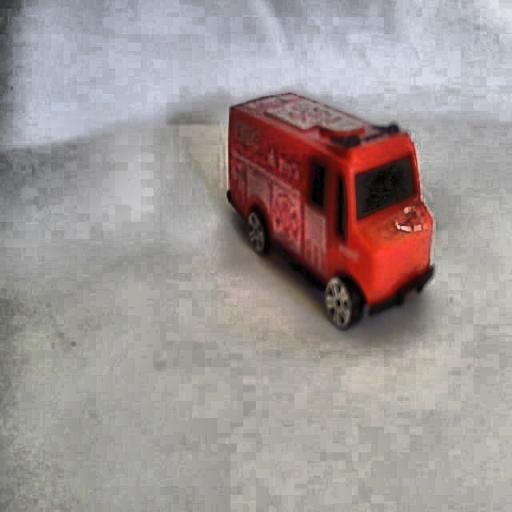fire_truck: (225, 90, 436, 330), (229, 108, 264, 167)
